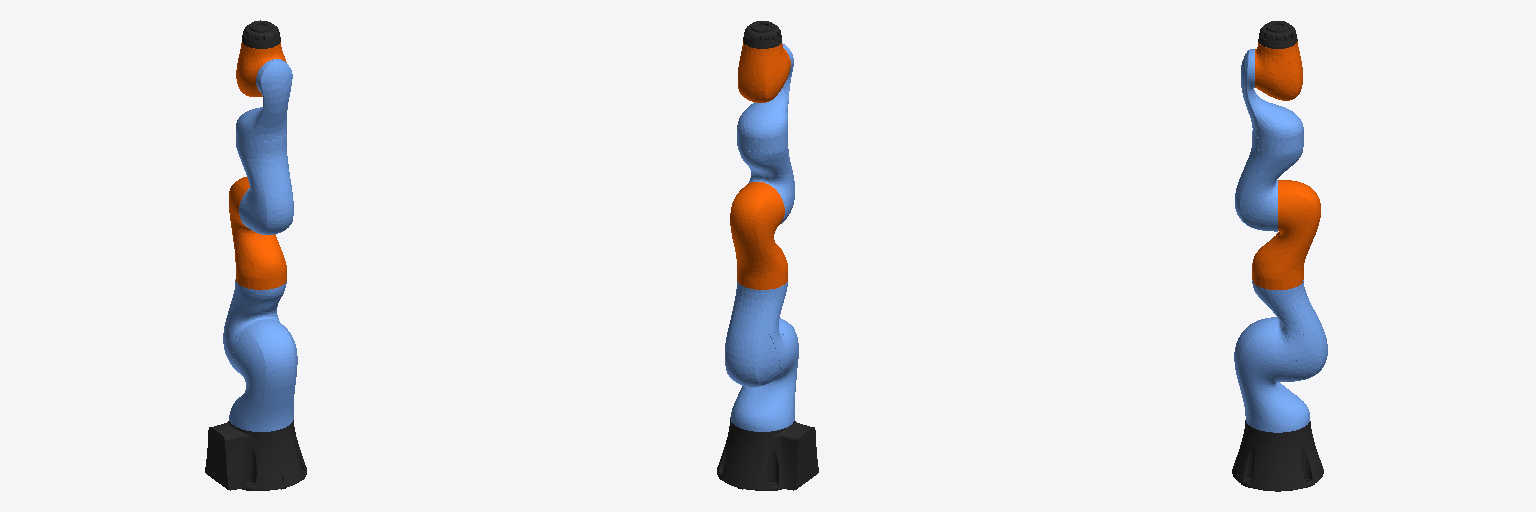
robot.urdf — lbr_iiwa:
<?xml version="1.0" ?>
<!-- ======================================================================= -->
<!-- | This document was autogenerated by xacro from lbr_iiwa.urdf.xacro   | -->
<!-- | Original xacro: https://github.com/rtkg/lbr_iiwa/archive/master.zip | -->
<!-- | EDITING THIS FILE BY HAND IS NOT RECOMMENDED                        | -->
<!-- | Changes ([author]):                                                 | -->
<!-- |   * Removed gazebo tags.                                            | -->
<!-- |   * Removed unused materials.                                       | -->
<!-- |   * Made mesh paths relative.                                       | -->
<!-- |   * Removed material fields from collision segments.                | -->
<!-- |   * Removed the self_collision_checking segment.                    | -->
<!-- |   * Removed transmission segments, since they didn't match the      | -->
<!-- |     convention, will have to added back later.                      | -->
<!-- ======================================================================= -->
<!--LICENSE:                                                                 -->
<!--Copyright (c) 2015, [author] & [author], AASS Research Center,  -->
<!--Orebro University, Sweden                                                -->
<!--All rights reserved.                                                     -->
<!--                                                                         -->
<!--Redistribution and use in source and binary forms, with or without       -->
<!--modification, are permitted provided that the following conditions are   -->
<!--met:                                                                     -->
<!--                                                                         -->
<!--1. Redistributions of source code must retain the above copyright notice,-->
<!--   this list of conditions and the following disclaimer.                 -->
<!--                                                                         -->
<!--2. Redistributions in binary form must reproduce the above copyright     -->
<!--   notice, this list of conditions and the following disclaimer in the   -->
<!--   documentation and/or other materials provided with the distribution.  -->
<!--                                                                         -->
<!--THIS SOFTWARE IS PROVIDED BY THE COPYRIGHT [author] "AS  -->
<!--IS" AND ANY EXPRESS OR IMPLIED WARRANTIES, INCLUDING, BUT NOT LIMITED TO,-->
<!--THE IMPLIED WARRANTIES OF MERCHANTABILITY AND FITNESS FOR A PARTICULAR   -->
<!--PURPOSE ARE DISCLAIMED. IN NO EVENT SHALL THE COPYRIGHT [author]        -->
<!--CONTRIBUTORS BE LIABLE FOR ANY DIRECT, INDIRECT, INCIDENTAL, SPECIAL,    -->
<!--EXEMPLARY, OR CONSEQUENTIAL DAMAGES (INCLUDING, BUT NOT LIMITED TO,      -->
<!--PROCUREMENT OF SUBSTITUTE GOODS OR SERVICES; LOSS OF USE, DATA, OR       -->
<!--PROFITS; OR BUSINESS INTERRUPTION) HOWEVER CAUSED AND ON ANY THEORY OF   -->
<!--LIABILITY, WHETHER IN CONTRACT, STRICT LIABILITY, OR TORT (INCLUDING     -->
<!--NEGLIGENCE OR OTHERWISE) ARISING IN ANY WAY OUT OF THE USE OF THIS       -->
<!--SOFTWARE, EVEN IF ADVISED OF THE POSSIBILITY OF SUCH DAMAGE.             -->
<robot name="lbr_iiwa" xmlns:xacro="http://www.ros.org/wiki/xacro">
  <!-- Import Rviz colors -->
  <material name="Grey">
    <color rgba="0.2 0.2 0.2 1.0"/>
  </material>
  <material name="Orange">
    <color rgba="1.0 0.423529411765 0.0392156862745 1.0"/>
  </material>
  <material name="Blue">
  <color rgba="0.5 0.7 1.0 1.0"/>      
</material>

  <!--Import the lbr iiwa macro -->
  <!--Import Transmissions -->
  <!--Include Utilities -->
  <!--The following macros are adapted from the LWR 4 definitions of the RCPRG - https://github.com/RCPRG-ros-pkg/lwr_robot -->
  <!--Little helper macros to define the inertia matrix needed for links.-->
  <!--Cuboid-->
  <!--Cylinder: length is along the y-axis! -->
  <!--lbr-->
  <link name="world" />
    <joint name="world_joint" type="fixed">
        <parent link="world"/>
        <child link="lbr_iiwa_link_0"/>
        <origin rpy="0.0 0.0 0.0" xyz="0.0 0.0 0.0"/>
    </joint>

  <link name="lbr_iiwa_link_0">
    <inertial>
      <origin rpy="0 0 0" xyz="-0.1 0 0.07"/>
      <!--Increase mass from 5 Kg original to provide a stable base to carry the
          arm.-->
      <mass value="0.0"/>
      <inertia ixx="0.05" ixy="0" ixz="0" iyy="0.06" iyz="0" izz="0.03"/>
    </inertial>
    <visual>
      <origin rpy="0 0 0" xyz="0 0 0"/>
      <geometry>
        <mesh filename="meshes/kuka_iiwr/link_0.dae"/>
      </geometry>
      <material name="Grey"/>
    </visual>
    <collision>
      <origin rpy="0 0 0" xyz="0 0 0"/>
      <geometry>
        <mesh filename="meshes/kuka_iiwr/link_0.stl"/>
      </geometry>
    </collision>
  </link>
  <!-- joint between link_0 and link_1 -->
  <joint name="lbr_iiwa_joint_1" type="revolute">
    <parent link="lbr_iiwa_link_0"/>
    <child link="lbr_iiwa_link_1"/>
    <origin rpy="0 0 0" xyz="0 0 0.1575"/>
    <axis xyz="0 0 1"/>
    <limit effort="300" lower="-2.96705972839" upper="2.96705972839" velocity="10"/>
    <dynamics damping="0.5"/>
  </joint>
  <link name="lbr_iiwa_link_1">
    <inertial>
      <origin rpy="0 0 0" xyz="0 -0.03 0.12"/>
      <mass value="4"/>
      <inertia ixx="0.1" ixy="0" ixz="0" iyy="0.09" iyz="0" izz="0.02"/>
    </inertial>
    <visual>
      <origin rpy="0 0 0" xyz="0 0 0"/>
      <geometry>
        <mesh filename="meshes/kuka_iiwr/link_1.dae"/>
      </geometry>
      <material name="Blue"/>
    </visual>
    <collision>
      <origin rpy="0 0 0" xyz="0 0 0"/>
      <geometry>
        <mesh filename="meshes/kuka_iiwr/link_1.stl"/>
      </geometry>
    </collision>
  </link>
  <!-- joint between link_1 and link_2 -->
  <joint name="lbr_iiwa_joint_2" type="revolute">
    <parent link="lbr_iiwa_link_1"/>
    <child link="lbr_iiwa_link_2"/>
    <origin rpy="1.57079632679   0 3.14159265359" xyz="0 0 0.2025"/>
    <axis xyz="0 0 1"/>
    <limit effort="300" lower="-2.09439510239" upper="2.09439510239" velocity="10"/>
    <dynamics damping="0.5"/>
  </joint>
  <link name="lbr_iiwa_link_2">
    <inertial>
      <origin rpy="0 0 0" xyz="0.0003 0.059 0.042"/>
      <mass value="4"/>
      <inertia ixx="0.05" ixy="0" ixz="0" iyy="0.018" iyz="0" izz="0.044"/>
    </inertial>
    <visual>
      <origin rpy="0 0 0" xyz="0 0 0"/>
      <geometry>
        <mesh filename="meshes/kuka_iiwr/link_2.dae"/>
      </geometry>
      <material name="Blue"/>
    </visual>
    <collision>
      <origin rpy="0 0 0" xyz="0 0 0"/>
      <geometry>
        <mesh filename="meshes/kuka_iiwr/link_2.stl"/>
      </geometry>
    </collision>
  </link>
  <!-- joint between link_2 and link_3 -->
  <joint name="lbr_iiwa_joint_3" type="revolute">
    <parent link="lbr_iiwa_link_2"/>
    <child link="lbr_iiwa_link_3"/>
    <origin rpy="1.57079632679 0 3.14159265359" xyz="0 0.2045 0"/>
    <axis xyz="0 0 1"/>
    <limit effort="300" lower="-2.96705972839" upper="2.96705972839" velocity="10"/>
    <dynamics damping="0.5"/>
  </joint>
  <link name="lbr_iiwa_link_3">
    <inertial>
      <origin rpy="0 0 0" xyz="0 0.03 0.13"/>
      <mass value="3"/>
      <inertia ixx="0.08" ixy="0" ixz="0" iyy="0.075" iyz="0" izz="0.01"/>
    </inertial>
    <visual>
      <origin rpy="0 0 0" xyz="0 0 0"/>
      <geometry>
        <mesh filename="meshes/kuka_iiwr/link_3.dae"/>
      </geometry>
      <material name="Orange"/>
    </visual>
    <collision>
      <origin rpy="0 0 0" xyz="0 0 0"/>
      <geometry>
        <mesh filename="meshes/kuka_iiwr/link_3.stl"/>
      </geometry>
    </collision>
  </link>
  <!-- joint between link_3 and link_4 -->
  <joint name="lbr_iiwa_joint_4" type="revolute">
    <parent link="lbr_iiwa_link_3"/>
    <child link="lbr_iiwa_link_4"/>
    <origin rpy="1.57079632679 0 0" xyz="0 0 0.2155"/>
    <axis xyz="0 0 1"/>
    <limit effort="300" lower="-2.09439510239" upper="2.09439510239" velocity="10"/>
    <dynamics damping="0.5"/>
  </joint>
  <link name="lbr_iiwa_link_4">
    <inertial>
      <origin rpy="0 0 0" xyz="0 0.067 0.034"/>
      <mass value="2.7"/>
      <inertia ixx="0.03" ixy="0" ixz="0" iyy="0.01" iyz="0" izz="0.029"/>
    </inertial>
    <visual>
      <origin rpy="0 0 0" xyz="0 0 0"/>
      <geometry>
        <mesh filename="meshes/kuka_iiwr/link_4.dae"/>
      </geometry>
      <material name="Blue"/>
    </visual>
    <collision>
      <origin rpy="0 0 0" xyz="0 0 0"/>
      <geometry>
        <mesh filename="meshes/kuka_iiwr/link_4.stl"/>
      </geometry>
    </collision>
  </link>
  <!-- joint between link_4 and link_5 -->
  <joint name="lbr_iiwa_joint_5" type="revolute">
    <parent link="lbr_iiwa_link_4"/>
    <child link="lbr_iiwa_link_5"/>
    <origin rpy="-1.57079632679 3.14159265359 0" xyz="0 0.1845 0"/>
    <axis xyz="0 0 1"/>
    <limit effort="300" lower="-2.96705972839" upper="2.96705972839" velocity="10"/>
    <dynamics damping="0.5"/>
  </joint>
  <link name="lbr_iiwa_link_5">
    <inertial>
      <origin rpy="0 0 0" xyz="0.0001 0.021 0.076"/>
      <mass value="1.7"/>
      <inertia ixx="0.02" ixy="0" ixz="0" iyy="0.018" iyz="0" izz="0.005"/>
    </inertial>
    <visual>
      <origin rpy="0 0 0" xyz="0 0 0"/>
      <geometry>
        <mesh filename="meshes/kuka_iiwr/link_5.dae"/>
      </geometry>
      <material name="Blue"/>
    </visual>
    <collision>
      <origin rpy="0 0 0" xyz="0 0 0"/>
      <geometry>
        <mesh filename="meshes/kuka_iiwr/link_5.stl"/>
      </geometry>
    </collision>
  </link>
  <!-- joint between link_5 and link_6 -->
  <joint name="lbr_iiwa_joint_6" type="revolute">
    <parent link="lbr_iiwa_link_5"/>
    <child link="lbr_iiwa_link_6"/>
    <origin rpy="1.57079632679 0 0" xyz="0 0 0.2155"/>
    <axis xyz="0 0 1"/>
    <limit effort="300" lower="-2.09439510239" upper="2.09439510239" velocity="10"/>
    <dynamics damping="0.5"/>
  </joint>
  <link name="lbr_iiwa_link_6">
    <inertial>
      <origin rpy="0 0 0" xyz="0 0.0006 0.0004"/>
      <mass value="1.8"/>
      <inertia ixx="0.005" ixy="0" ixz="0" iyy="0.0036" iyz="0" izz="0.0047"/>
    </inertial>
    <visual>
      <origin rpy="0 0 0" xyz="0 0 0"/>
      <geometry>
        <mesh filename="meshes/kuka_iiwr/link_6.dae"/>
      </geometry>
      <material name="Orange"/>
    </visual>
    <collision>
      <origin rpy="0 0 0" xyz="0 0 0"/>
      <geometry>
        <mesh filename="meshes/kuka_iiwr/link_6.stl"/>
      </geometry>
    </collision>
  </link>
  <!-- joint between link_6 and link_7 -->
  <joint name="lbr_iiwa_joint_7" type="revolute">
    <parent link="lbr_iiwa_link_6"/>
    <child link="lbr_iiwa_link_7"/>
    <origin rpy="-1.57079632679 3.14159265359 0" xyz="0 0.081 0"/>
    <axis xyz="0 0 1"/>
    <limit effort="300" lower="-3.05432619099" upper="3.05432619099" velocity="10"/>
    <dynamics damping="0.5"/>
  </joint>
  <link name="lbr_iiwa_link_7">
    <inertial>
      <origin rpy="0 0 0" xyz="0 0 0.02"/>
      <mass value="0.3"/>
      <inertia ixx="0.001" ixy="0" ixz="0" iyy="0.001" iyz="0" izz="0.001"/>
    </inertial>
    <visual>
      <origin rpy="0 0 0" xyz="0 0 0"/>
      <geometry>
        <mesh filename="meshes/kuka_iiwr/link_7.dae"/>
      </geometry>
      <material name="Grey"/>
    </visual>
    <collision>
      <origin rpy="0 0 0" xyz="0 0 0"/>
      <geometry>
        <mesh filename="meshes/kuka_iiwr/link_7.stl"/>
      </geometry>
    </collision>
  </link>
    <joint name="ee_fixed_joint" type="fixed">
        <parent link="lbr_iiwa_link_7"/>
        <child link="ee_link"/>
        <origin rpy="0.0 0.0 0.0" xyz="0.0 0.0 0.0"/>
    </joint>
    <link name="ee_link">
        <collision>
          <geometry>
            <box size="0.01 0.01 0.01"/>
          </geometry>
          <origin rpy="0 0 0" xyz="0 0 0"/>
        </collision>
    </link>
  
</robot>

--- Facts derived from the render (not from the file) ---
The picture shows the robot from 3 angles, left to right: view 1: azimuth 30°, elevation 25°; view 2: azimuth 150°, elevation 25°; view 3: azimuth 270°, elevation 25°; orthographic projection.
Model lbr_iiwa with 10 links and 9 joints (7 revolute, 2 fixed), rooted at world, posed all joints at 0.
Links seen in each view (by area): view 1: lbr_iiwa_link_1, lbr_iiwa_link_0, lbr_iiwa_link_4, lbr_iiwa_link_5, lbr_iiwa_link_3, lbr_iiwa_link_2, lbr_iiwa_link_6, lbr_iiwa_link_7; view 2: lbr_iiwa_link_0, lbr_iiwa_link_2, lbr_iiwa_link_3, lbr_iiwa_link_1, lbr_iiwa_link_5, lbr_iiwa_link_6, lbr_iiwa_link_4, lbr_iiwa_link_7; view 3: lbr_iiwa_link_1, lbr_iiwa_link_0, lbr_iiwa_link_3, lbr_iiwa_link_2, lbr_iiwa_link_4, lbr_iiwa_link_5, lbr_iiwa_link_6, lbr_iiwa_link_7.
Link boxes in pixels (x1,y1,x2,y2): lbr_iiwa_link_1: [229, 319, 297, 431]; lbr_iiwa_link_0: [205, 420, 306, 490]; lbr_iiwa_link_4: [236, 144, 293, 234]; lbr_iiwa_link_5: [236, 59, 292, 152]; lbr_iiwa_link_3: [229, 177, 286, 289]; lbr_iiwa_link_2: [223, 279, 286, 372]; lbr_iiwa_link_6: [236, 42, 286, 96]; lbr_iiwa_link_7: [242, 20, 280, 48]; lbr_iiwa_link_0: [717, 417, 818, 490]; lbr_iiwa_link_2: [725, 281, 790, 386]; lbr_iiwa_link_3: [730, 182, 787, 289]; lbr_iiwa_link_1: [730, 318, 798, 431]; lbr_iiwa_link_5: [737, 43, 793, 152]; lbr_iiwa_link_6: [738, 42, 790, 102]; lbr_iiwa_link_4: [737, 144, 794, 223]; lbr_iiwa_link_7: [743, 21, 781, 48]; lbr_iiwa_link_1: [1234, 317, 1309, 432]; lbr_iiwa_link_0: [1232, 420, 1323, 491]; lbr_iiwa_link_3: [1252, 180, 1320, 289]; lbr_iiwa_link_2: [1252, 280, 1327, 381]; lbr_iiwa_link_4: [1235, 144, 1303, 231]; lbr_iiwa_link_5: [1241, 49, 1303, 152]; lbr_iiwa_link_6: [1255, 41, 1302, 100]; lbr_iiwa_link_7: [1258, 21, 1297, 48].
Bounding box of the posed robot: 0.2573 × 0.2535 × 1.31 m (x, y, z).
Meshes: 8 distinct files referenced, 8 mesh visuals loaded (8 Collada DAE).